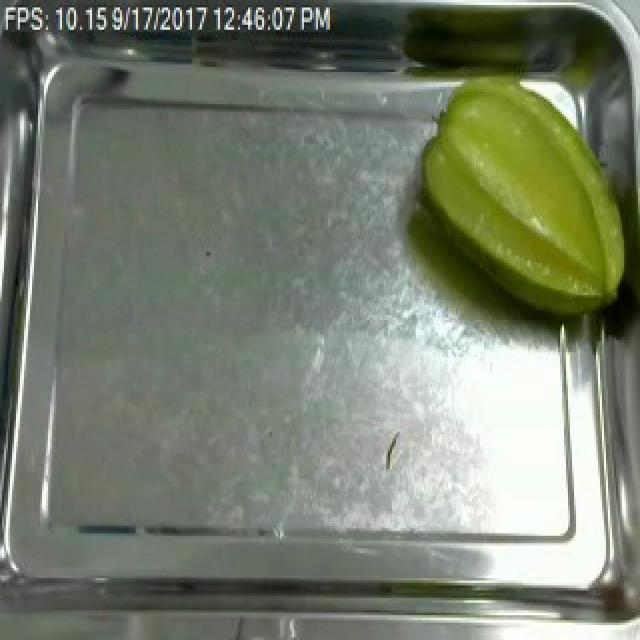fruit: (410, 52, 640, 320)
